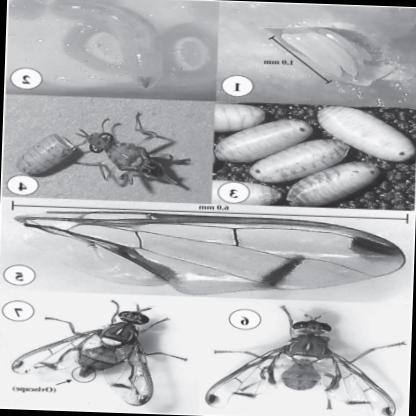fruit fly: (206, 313, 405, 416), (12, 301, 154, 406)
